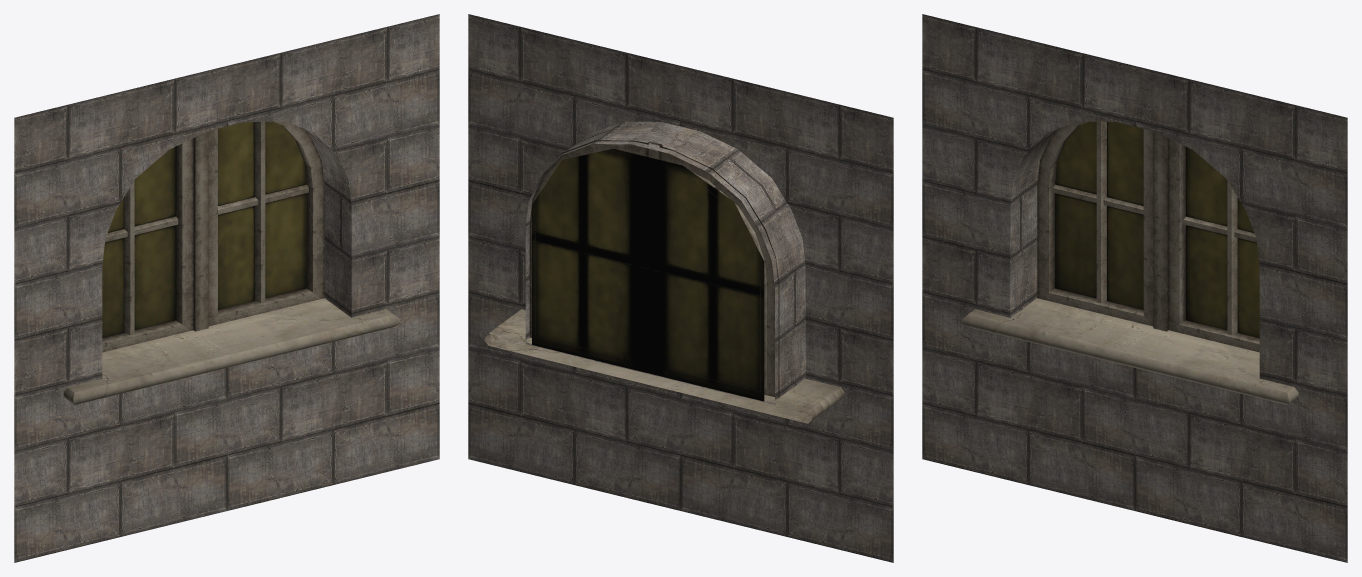
Rendered from exterior_walls_bare_window_01.DAE.
The picture shows the model from 3 angles, left to right: view 1: azimuth 30°, elevation 25°; view 2: azimuth 150°, elevation 25°; view 3: azimuth 330°, elevation 25°; orthographic projection.
Parts seen in each view (by area): view 1: Box010, mansionbase_window_frame1, mansionbase_window_blue; view 2: Box010, mansionbase_window_blue, mansionbase_window_frame1; view 3: Box010, mansionbase_window_frame1, mansionbase_window_blue.
Part boxes in pixels (x1=…): Box010: x1=14, y1=14, x2=439, y2=562; mansionbase_window_frame1: x1=63, y1=121, x2=400, y2=404; mansionbase_window_blue: x1=102, y1=121, x2=306, y2=337; Box010: x1=468, y1=14, x2=893, y2=562; mansionbase_window_blue: x1=532, y1=148, x2=764, y2=401; mansionbase_window_frame1: x1=484, y1=140, x2=844, y2=423; Box010: x1=922, y1=14, x2=1347, y2=562; mansionbase_window_frame1: x1=962, y1=121, x2=1298, y2=404; mansionbase_window_blue: x1=1055, y1=121, x2=1259, y2=337.
Bounding box in the file's own units: 4 × 4 × 0.6962.
